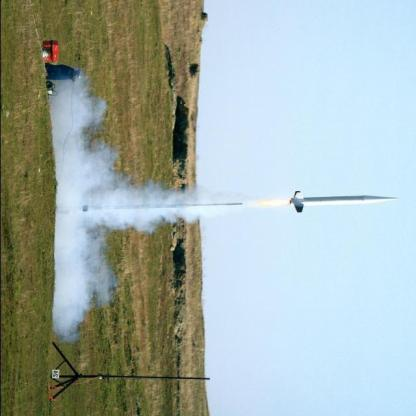MIL_TBM: (288, 192, 396, 212)
